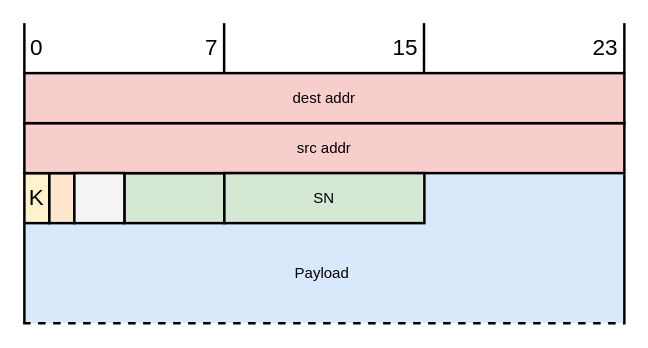
Some shapes in this 648 by 348 pixel diagram are drawn without their labels. The shapes that lost their labels are listed below. From the top down, each one's centre as x and y in pixels, then its label:
At pixel 61 197: "next".
At pixel 173 197: "command".
